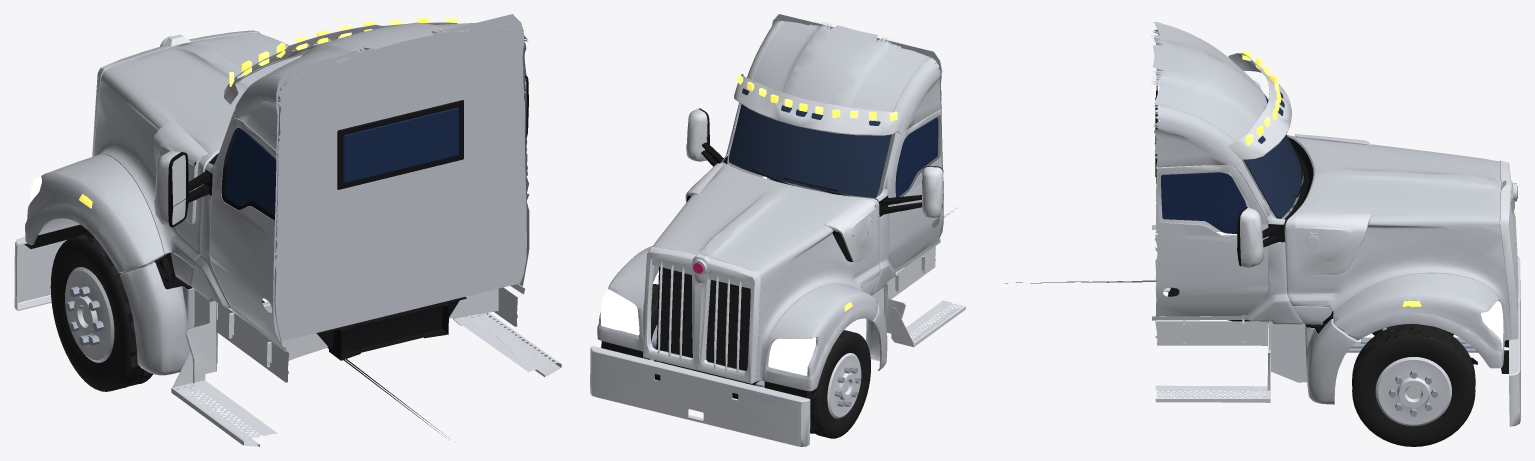
The model's file is cab_americana.glb.
3 renders of one model, left to right at view 1: azimuth 30°, elevation 25°; view 2: azimuth 150°, elevation 25°; view 3: azimuth 270°, elevation 25°, orthographic. The views are drawn at different scales.
Visible parts, largest first — view 1: truck_paint_white_panel, truck_chrome, wheel_f_L, truck_plastic_black, truck_glass, truck_lamp_amber, truck_lamp_yellow; view 2: truck_paint_white_panel, truck_chrome, truck_glass_wind, truck_plastic_black, wheel_f_L, truck_lamp_white, truck_glass, wheel_f_R, truck_lamp_yellow, truck_lamp_amber; view 3: truck_paint_white_panel, truck_chrome, wheel_f_R, truck_glass, truck_glass_wind, truck_plastic_black, truck_lamp_white.
Part boxes in pixels (left/top/right/bottom): truck_paint_white_panel: left=25, top=14, right=529, bottom=375; truck_chrome: left=14, top=22, right=561, bottom=446; wheel_f_L: left=50, top=233, right=152, bottom=391; truck_plastic_black: left=24, top=75, right=528, bottom=437; truck_glass: left=225, top=107, right=458, bottom=215; truck_lamp_amber: left=79, top=18, right=428, bottom=208; truck_lamp_yellow: left=229, top=17, right=457, bottom=86; truck_paint_white_panel: left=597, top=14, right=943, bottom=391; truck_chrome: left=590, top=74, right=965, bottom=446; truck_glass_wind: left=729, top=88, right=891, bottom=197; truck_plastic_black: left=601, top=108, right=950, bottom=399; wheel_f_L: left=806, top=330, right=870, bottom=438; truck_lamp_white: left=600, top=289, right=816, bottom=375; truck_glass: left=895, top=117, right=938, bottom=197; wheel_f_R: left=621, top=284, right=660, bottom=380; truck_lamp_yellow: left=737, top=74, right=897, bottom=121; truck_lamp_amber: left=747, top=82, right=876, bottom=311; truck_paint_white_panel: left=1151, top=22, right=1511, bottom=404; truck_chrome: left=1152, top=53, right=1520, bottom=426; wheel_f_R: left=1352, top=324, right=1475, bottom=446; truck_glass: left=1155, top=97, right=1246, bottom=233; truck_glass_wind: left=1244, top=92, right=1302, bottom=218; truck_plastic_black: left=1005, top=90, right=1508, bottom=373; truck_lamp_white: left=1481, top=300, right=1503, bottom=348.
Bounding box in the file's own units: 2.84 × 3.18 × 4.53.
Materials: 11 (3 with a texture image).
